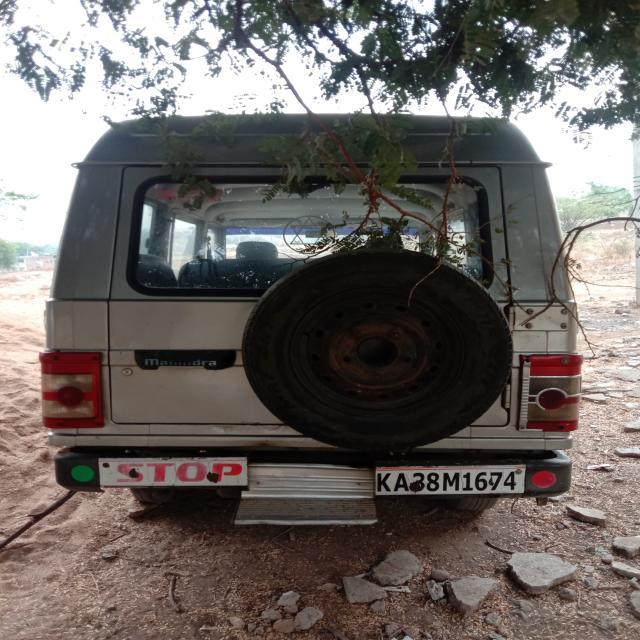plate: (373, 463, 526, 496)
